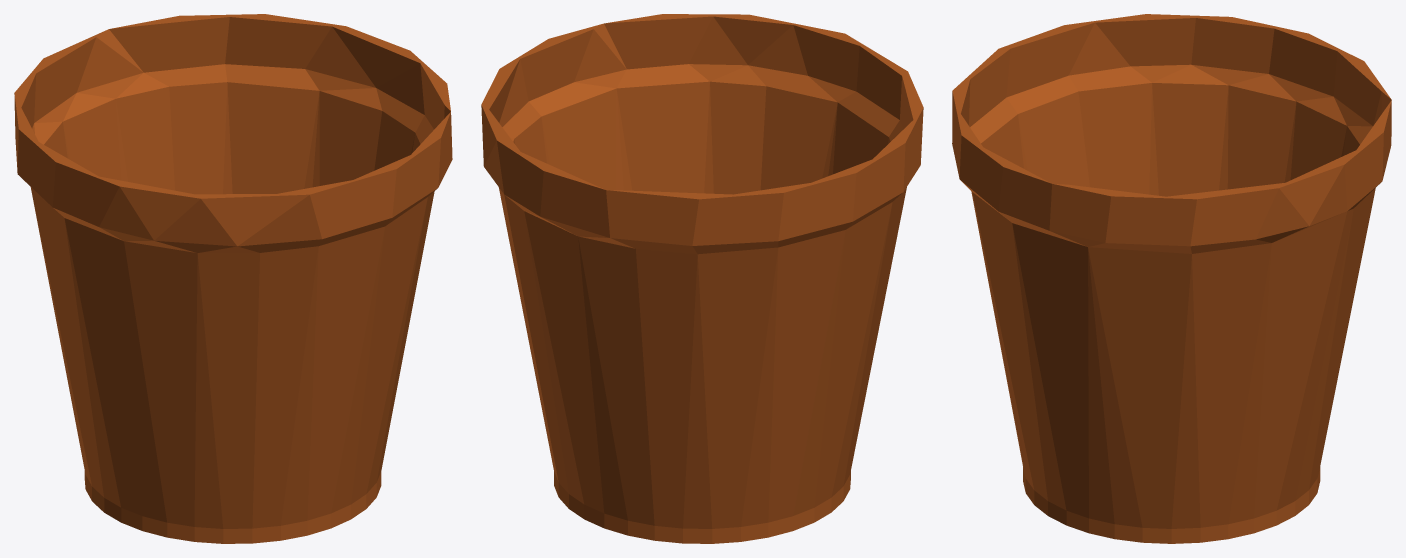
Rendered from pot.fbx.
3 views of the same model, side by side, from view 1: azimuth 30°, elevation 25°; view 2: azimuth 150°, elevation 25°; view 3: azimuth 270°, elevation 25° (orthographic).
Parts seen in each view (by area): view 1: Cylinder; view 2: Cylinder; view 3: Cylinder.
Boxes of the visible parts, x1=… form: Cylinder: x1=14, y1=14, x2=452, y2=543; Cylinder: x1=481, y1=14, x2=923, y2=543; Cylinder: x1=952, y1=14, x2=1391, y2=543.
Size of the model in its own units: 296 by 278 by 296.
